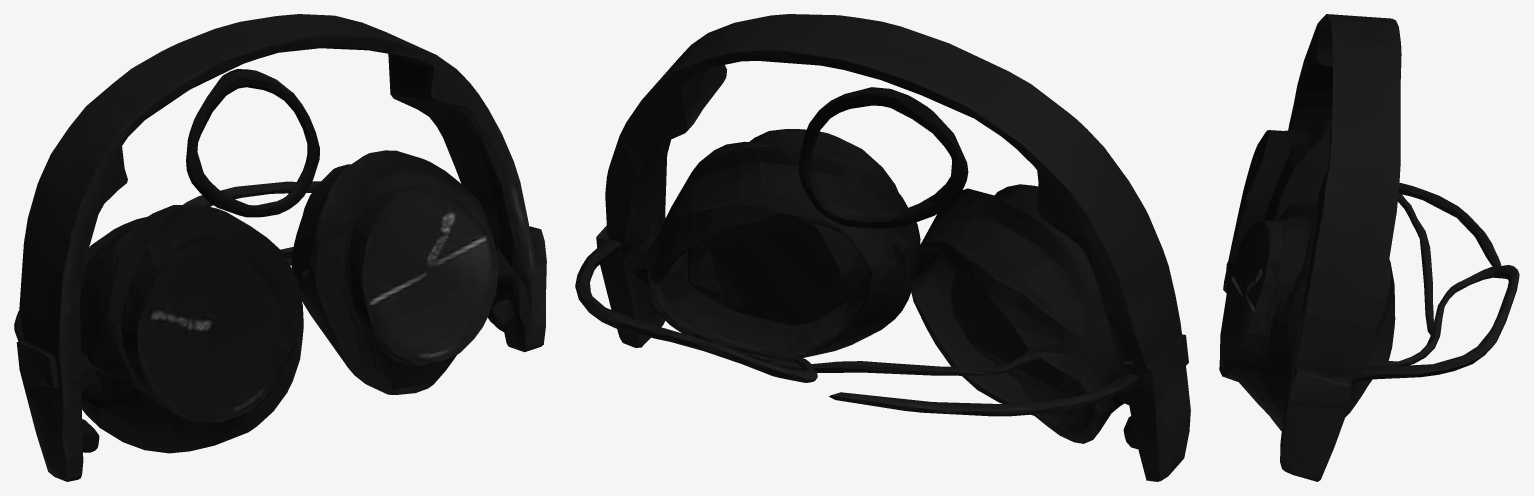
The picture shows the model from 3 angles, left to right: view 1: azimuth 30°, elevation 25°; view 2: azimuth 150°, elevation 25°; view 3: azimuth 270°, elevation 25°; orthographic projection. The views are drawn at different scales.
Parts seen in each view (by area): view 1: geometry_0; view 2: geometry_0; view 3: geometry_0.
Boxes of the visible parts, <box> form: geometry_0: <box>14,14,546,481</box>; geometry_0: <box>575,14,1190,481</box>; geometry_0: <box>1219,14,1519,481</box>.
Bounding box in the file's own units: 0.9966 × 0.6978 × 0.5626.
1 material, 1 textured.
